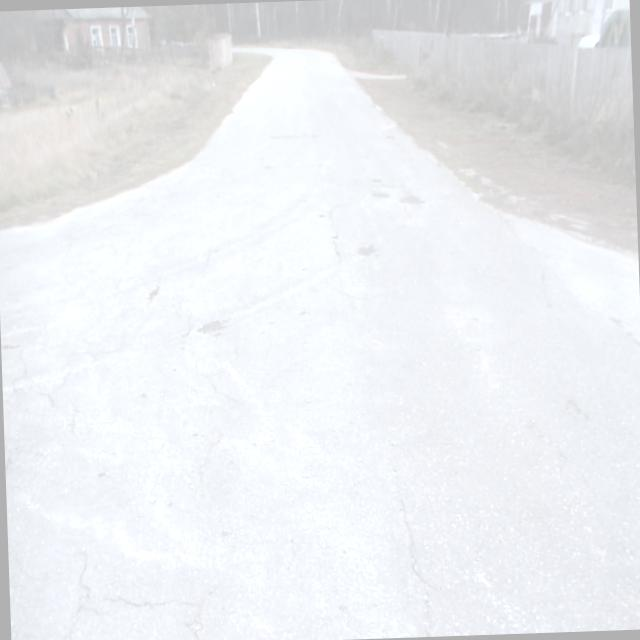road: (0, 46, 640, 640)
